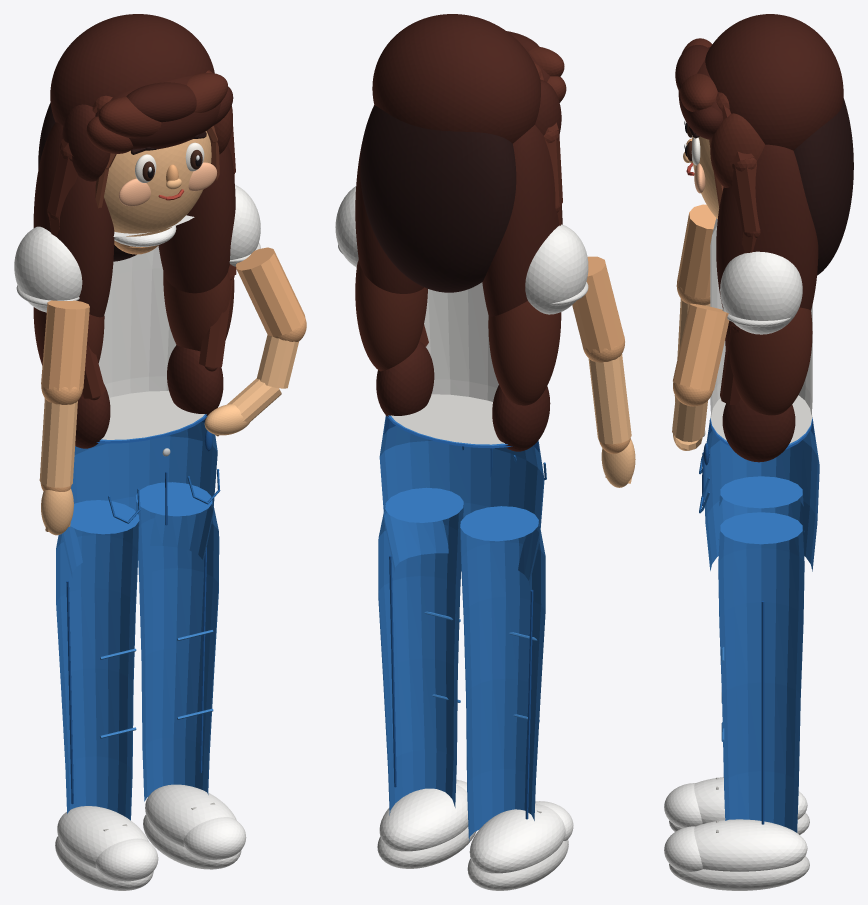
Rendered from start.glb.
3 views of the same model, side by side, from view 1: azimuth 30°, elevation 25°; view 2: azimuth 150°, elevation 25°; view 3: azimuth 270°, elevation 25° (orthographic). The views are drawn at different scales.
Visible parts, largest first — view 1: Jeans leg L, Jeans leg R, High waist jeans torso, Hair crown, White cropped T shirt, Long hair outer L, Long hair outer R, Head, Left sleeve, Left upper arm, Right upper arm, T shirt hem seam (+32 smaller); view 2: Jeans leg L, Back hair mass, Jeans leg R, Hair crown, High waist jeans torso, Long hair outer L, White cropped T shirt, Long hair lower L, Long hair lower R, White sneaker L, White sneaker R, Left sleeve (+15 smaller); view 3: Jeans leg R, Hair crown, Long hair outer R, High waist jeans torso, Long hair lower R, Back hair mass, Right sleeve, White sneaker R, Right upper arm, Hair curl tip R, Left upper arm, Sneaker sole R (+17 smaller).
Part boxes in pixels (box(x1,y1,x2,y2)): Jeans leg L: box(56, 500, 139, 820); Jeans leg R: box(135, 482, 219, 801); High waist jeans torso: box(62, 414, 217, 577); Hair crown: box(50, 14, 214, 125); White cropped T shirt: box(98, 215, 194, 397); Long hair outer L: box(33, 122, 114, 317); Long hair outer R: box(158, 145, 235, 293); Head: box(104, 131, 211, 236); Left sleeve: box(14, 226, 82, 312); Left upper arm: box(41, 300, 89, 391); Right upper arm: box(236, 247, 305, 336); T shirt hem seam: box(101, 391, 204, 439); Jeans leg L: box(460, 506, 545, 840); Back hair mass: box(360, 105, 516, 292); Jeans leg R: box(378, 487, 463, 815); Hair crown: box(372, 14, 540, 143); High waist jeans torso: box(379, 415, 544, 585); Long hair outer L: box(482, 125, 562, 316); White cropped T shirt: box(424, 282, 498, 401); Long hair lower L: box(488, 301, 561, 405); Long hair lower R: box(355, 260, 427, 371); White sneaker L: box(469, 804, 565, 873); White sneaker R: box(379, 784, 468, 851); Left sleeve: box(525, 224, 588, 314); Jeans leg R: box(718, 512, 804, 832); Hair crown: box(705, 14, 843, 150); Long hair outer R: box(716, 144, 818, 310); High waist jeans torso: box(704, 418, 819, 571); Long hair lower R: box(725, 307, 812, 415); Back hair mass: box(793, 98, 853, 275); Right sleeve: box(720, 251, 802, 334); White sneaker R: box(694, 819, 807, 871); Right upper arm: box(673, 303, 729, 390); Hair curl tip R: box(722, 399, 795, 462); Left upper arm: box(677, 204, 716, 298); Sneaker sole R: box(669, 856, 809, 890).
Bounding box in the file's own units: 0.631 × 1.9 × 0.39.
